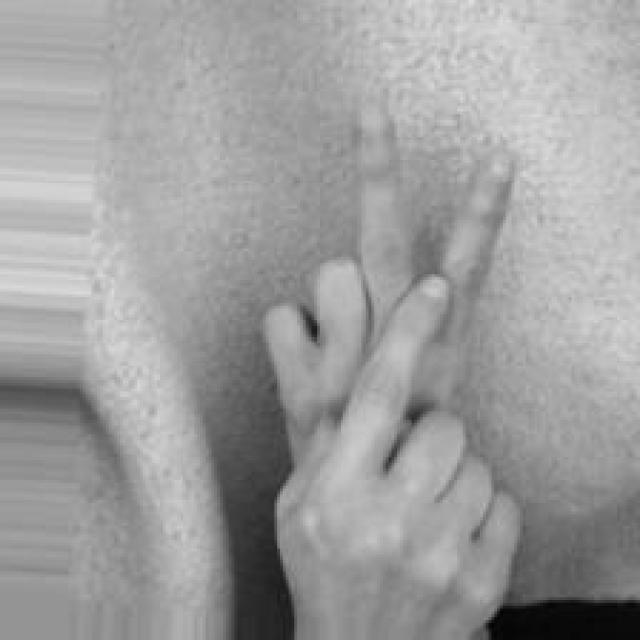Y: (258, 95, 529, 640)
